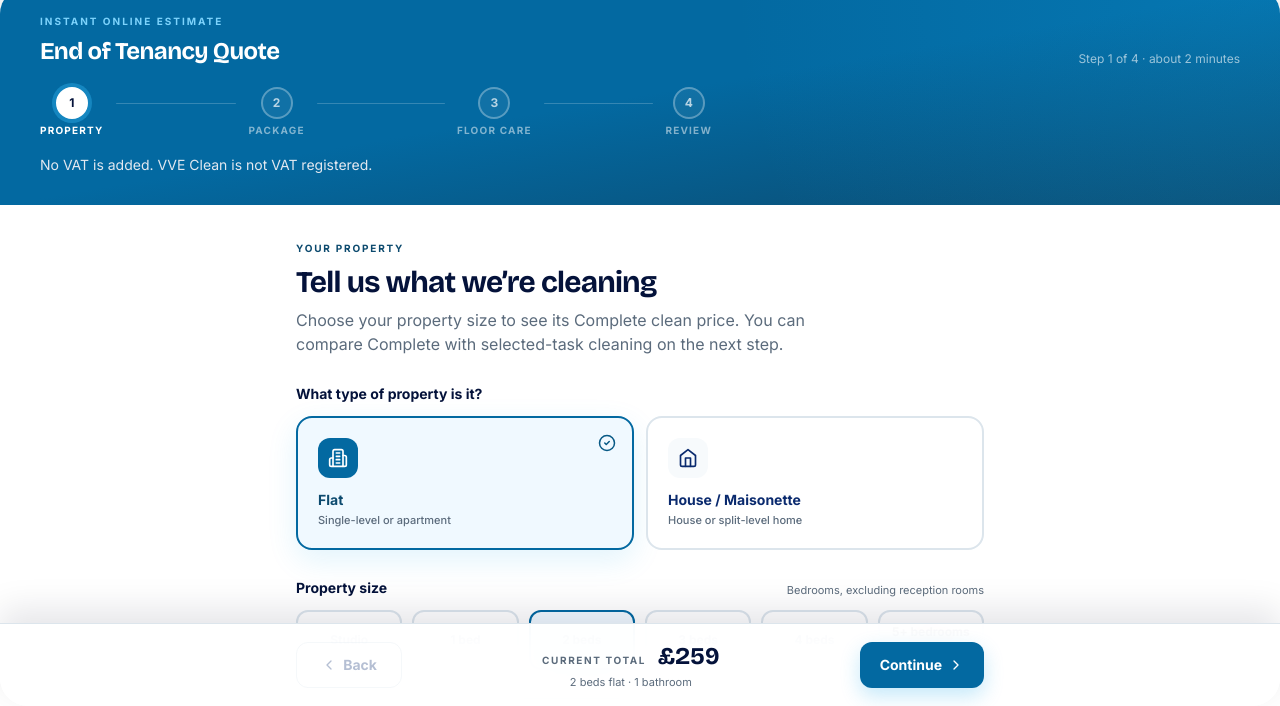
EotQuoteWizard — Step 2: Choose your cleaning package › longer inclusion lists are in an accessible expand/collapse section
Click the button "Continue".
click(922, 665)  # box [860,642,984,688]
(page scrolled)
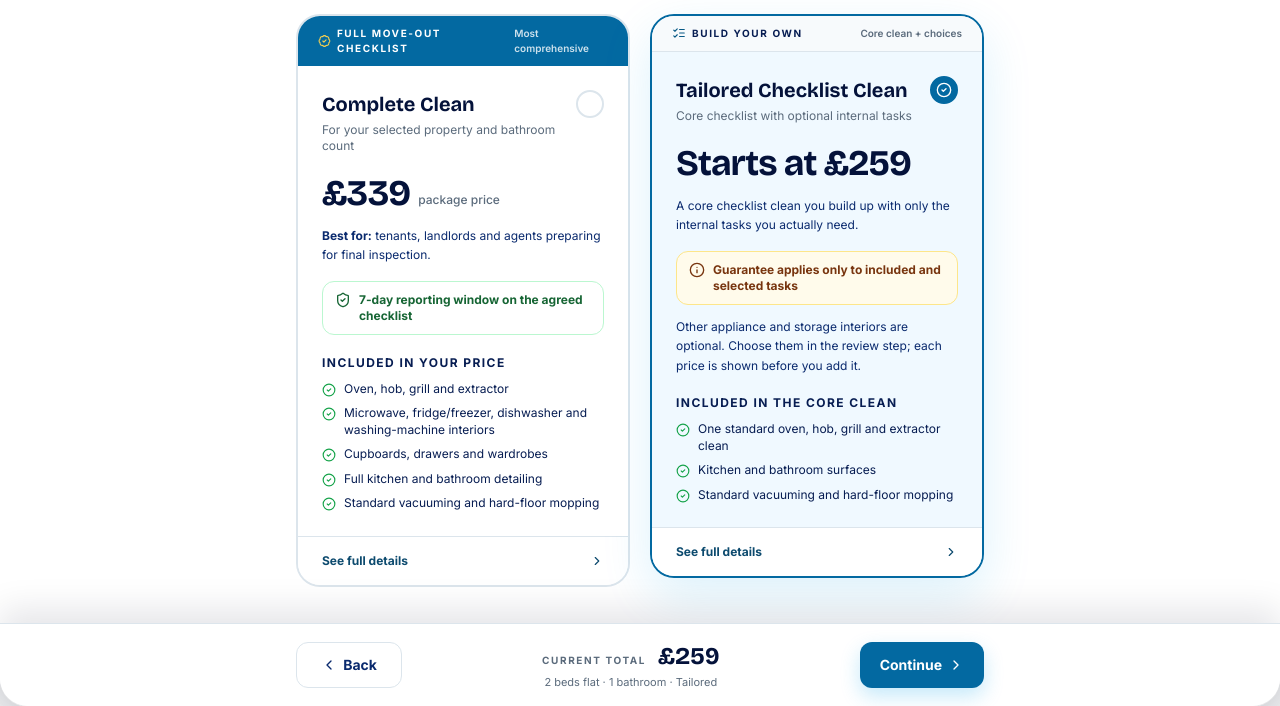
Check: the text "Not included" is not shown
Check: the number of headings "See full details" is 2
Click the 1st heading "See full details".
click(365, 560)  # box [322,553,604,568]
(page scrolled)
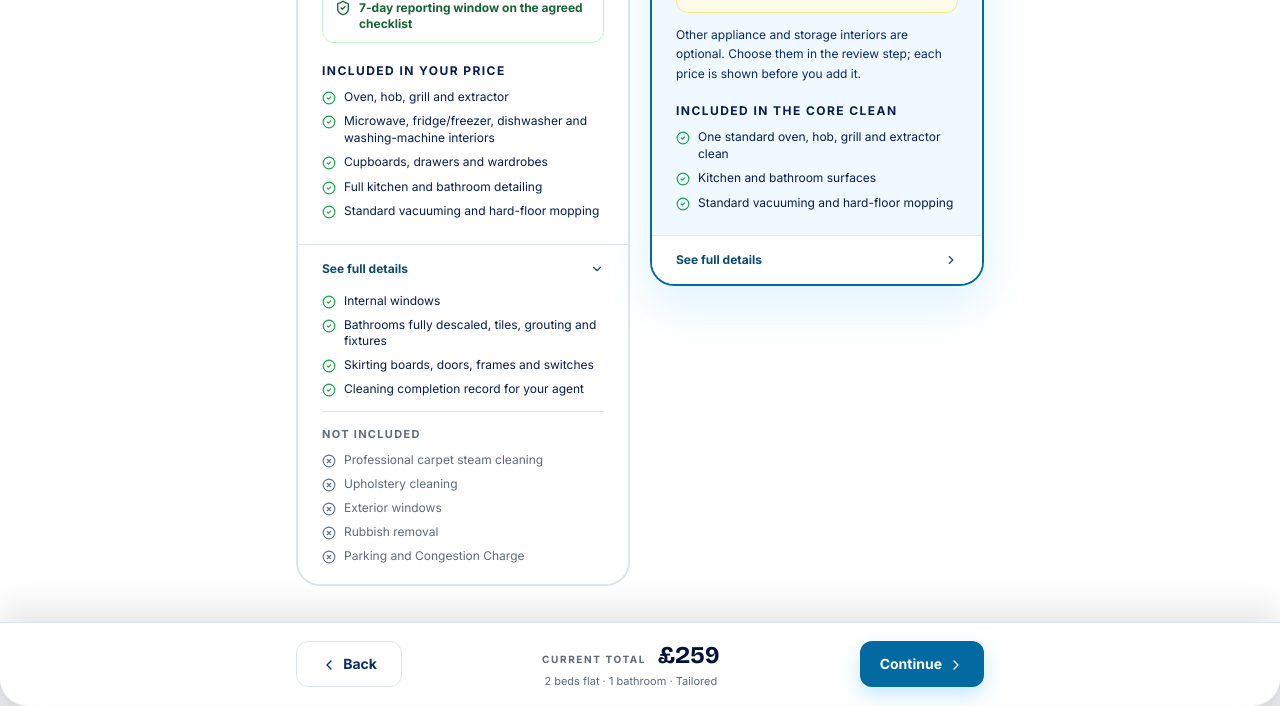
Check: the text "Not included" is shown, box [322,427,421,441]
